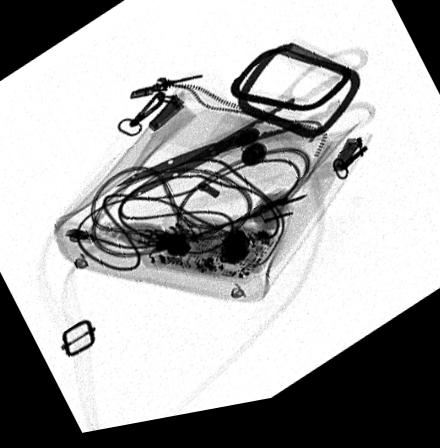Scissors: (106, 57, 382, 211)
